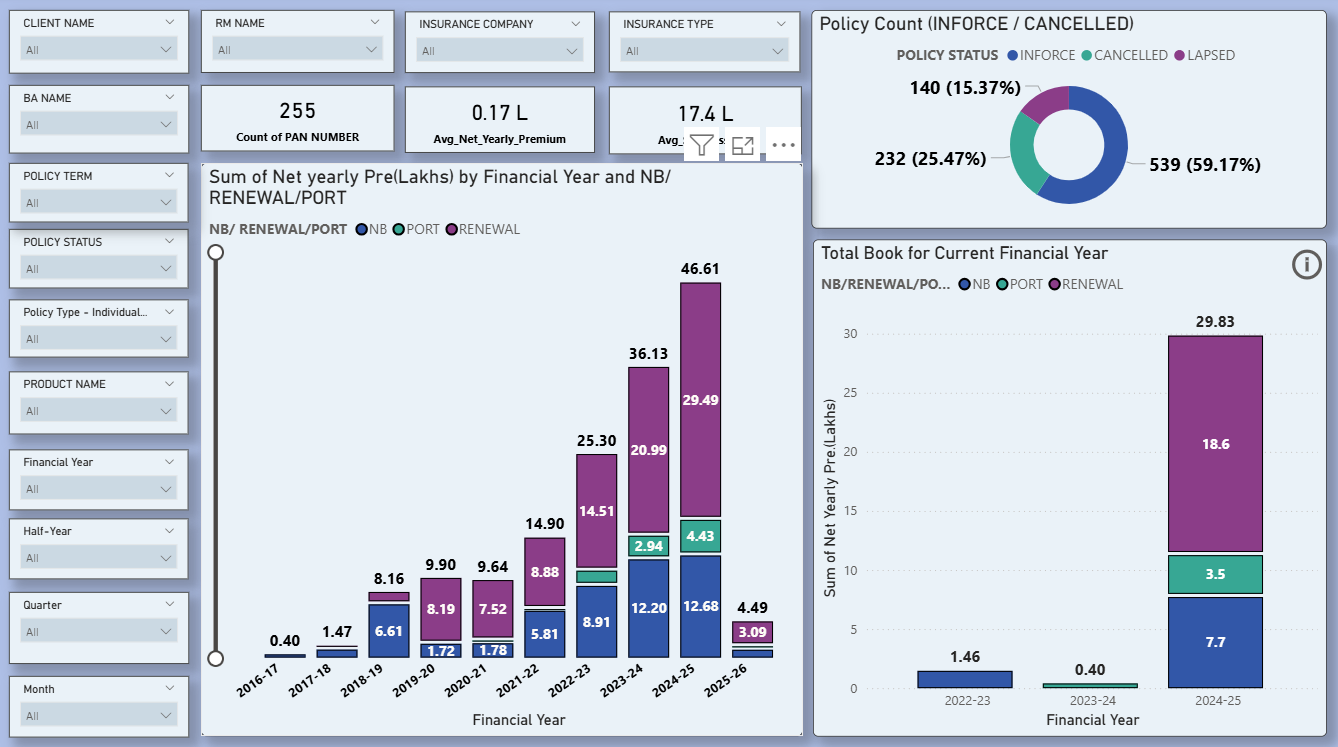

The page's visual inventory and layout, read from the dashboard file:
{"tool":"powerbi","page":{"name":"FY Wise Growth","canvas":[1280,720],"ordinal":0},"visuals":[{"type":"slicer","fields":{"Values":["Sheet1.CLIENT NAME "]},"box":[11.1,14.3,171.8,60.4],"z":0},{"type":"slicer","fields":{"Values":["Sheet1.RM  NAME "]},"box":[194.3,14.6,184.6,59.9],"z":1000},{"type":"slicer","fields":{"Values":["Sheet1.INSURANCE COMPANY"]},"box":[389.7,15.9,181.3,58.9],"z":2000},{"type":"slicer","fields":{"Values":["Sheet1.INSURANCE TYPE"]},"box":[584.5,16.2,183,58.3],"z":3000},{"type":"slicer","fields":{"Values":["Sheet1.BA NAME"]},"box":[11.1,85.9,171.8,65.2],"z":4000},{"type":"card","fields":{"Values":["Sheet1.PAN NUMBER"]},"box":[194.3,85.8,184.6,63.1],"z":5000},{"type":"card","fields":{"Values":["Sheet1.Avg_Net_Yearly_Premium"]},"box":[389.7,87.5,181.3,63.6],"z":6000},{"type":"card","fields":{"Values":["Sheet1.Avg_Sum_Assured"]},"box":[583.9,87.1,183.9,64.5],"z":7000},{"type":"donutChart","title":"Policy Count (INFORCE / CANCELLED)","fields":{"Category":["Sheet1.POLICY STATUS"],"Y":["Sheet1.Policy_count"]},"box":[778.3,15,491.7,208.3],"z":8000},{"type":"slicer","fields":{"Values":["Sheet1.POLICY STATUS"]},"box":[11.3,223.5,171.6,56.7],"z":9000},{"type":"slicer","fields":{"Values":["Sheet1.Policy Type - Individual/Floater"]},"box":[11.3,291.5,171.6,55.1],"z":10000},{"type":"slicer","fields":{"Values":["Sheet1.PRODUCT NAME"]},"box":[11.3,359.5,171.6,59.9],"z":11000},{"type":"slicer","fields":{"Values":["NewSummaryTable.Financial Year"]},"box":[11.3,434,171.6,58.3],"z":12000},{"type":"slicer","fields":{"Values":["NewSummaryTable.Half-Year"]},"box":[11.3,500.3,171.6,58.3],"z":13000},{"type":"slicer","fields":{"Values":["NewSummaryTable.Quarter"]},"box":[11.1,569.4,171.8,68.4],"z":14000},{"type":"slicer","fields":{"Values":["Month_Sort_Table.Month"]},"box":[11.1,650.6,171.8,58.9],"z":15000},{"type":"columnChart","fields":{"Category":["NewSummaryTable.Financial Year"],"Y":["Sheet1.Net yearly Pre(Lakhs)"],"Series":["Master Table.NB/ RENEWAL/PORT"]},"box":[194.3,160.3,574.8,547.3],"z":16000},{"type":"slicer","fields":{"Values":["Master Table.POLICY TERM"]},"box":[11.3,160.3,171.6,56.7],"z":17000},{"type":"columnChart","title":"Total Book for Current Financial Year","fields":{"Y":["Renewal Table.Net Yearly Pre.(Lakhs)"],"Series":["Renewal Table.NB/RENEWAL/PORT"],"Category":["NewSummaryTable.Financial Year"]},"box":[778.8,233.2,490.6,474.4],"z":18000},{"type":"actionButton","box":[1231.7,235,38.3,45],"z":24000}]}

Visuals, with their boxes in screenshot pixels (x1, y1, x2, y2), scaled from the page's 1280x720 canvas onto the 1338x747 screenshot:
slicer - Sheet1.CLIENT NAME : bbox(12, 15, 191, 78)
slicer - Sheet1.RM  NAME : bbox(203, 15, 396, 77)
slicer - Sheet1.INSURANCE COMPANY: bbox(407, 16, 597, 78)
slicer - Sheet1.INSURANCE TYPE: bbox(611, 17, 802, 77)
slicer - Sheet1.BA NAME: bbox(12, 89, 191, 157)
card - Sheet1.PAN NUMBER: bbox(203, 89, 396, 154)
card - Sheet1.Avg_Net_Yearly_Premium: bbox(407, 91, 597, 157)
card - Sheet1.Avg_Sum_Assured: bbox(610, 90, 803, 157)
"Policy Count (INFORCE / CANCELLED)" donutChart: bbox(814, 16, 1328, 232)
slicer - Sheet1.POLICY STATUS: bbox(12, 232, 191, 291)
slicer - Sheet1.Policy Type - Individual/Floater: bbox(12, 302, 191, 360)
slicer - Sheet1.PRODUCT NAME: bbox(12, 373, 191, 435)
slicer - NewSummaryTable.Financial Year: bbox(12, 450, 191, 511)
slicer - NewSummaryTable.Half-Year: bbox(12, 519, 191, 580)
slicer - NewSummaryTable.Quarter: bbox(12, 591, 191, 662)
slicer - Month_Sort_Table.Month: bbox(12, 675, 191, 736)
columnChart - NewSummaryTable.Financial Year x Sheet1.Net yearly Pre(Lakhs): bbox(203, 166, 804, 734)
slicer - Master Table.POLICY TERM: bbox(12, 166, 191, 225)
"Total Book for Current Financial Year" columnChart: bbox(814, 242, 1327, 734)
actionButton: bbox(1288, 244, 1328, 290)
